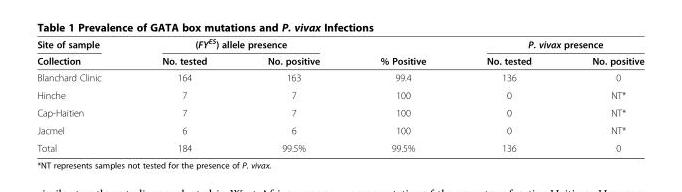table: (36, 36, 643, 153)
table column: (236, 36, 349, 153), (349, 36, 455, 153), (455, 36, 561, 153), (131, 36, 236, 153), (36, 36, 131, 153), (561, 36, 643, 153)
table column header: (36, 36, 643, 68)
table row: (36, 68, 643, 86), (36, 103, 643, 121), (36, 86, 643, 103), (36, 121, 643, 138), (36, 36, 643, 52), (36, 52, 643, 68), (36, 138, 643, 153)
table spanning cell: (131, 36, 349, 52), (349, 36, 455, 68), (36, 36, 131, 68), (455, 36, 643, 52)
